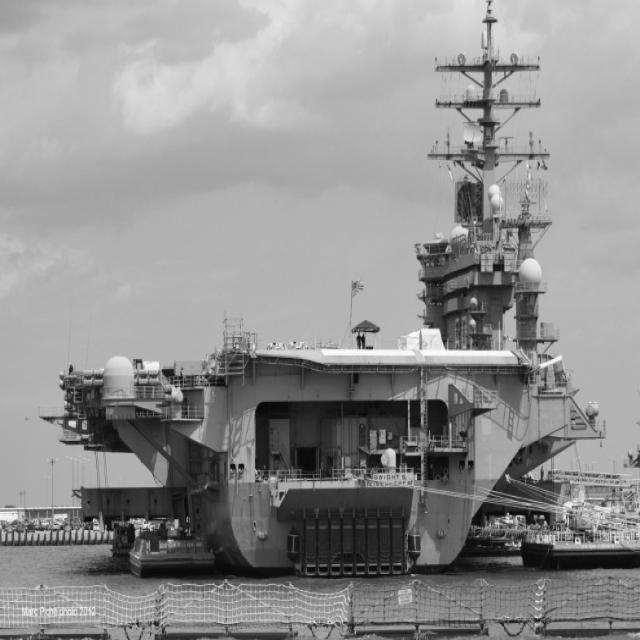Portanaves: (33, 1, 611, 580)
